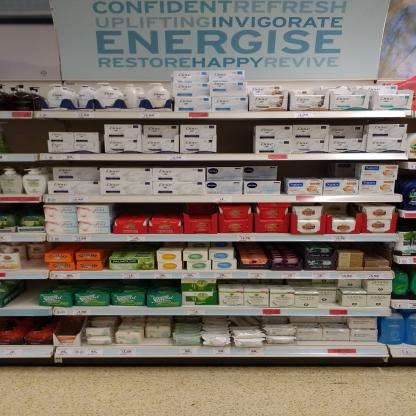Void: (1, 120, 47, 153), (218, 120, 254, 154), (279, 162, 354, 178), (117, 202, 179, 218), (9, 282, 34, 306), (7, 202, 42, 216), (188, 204, 214, 218)
